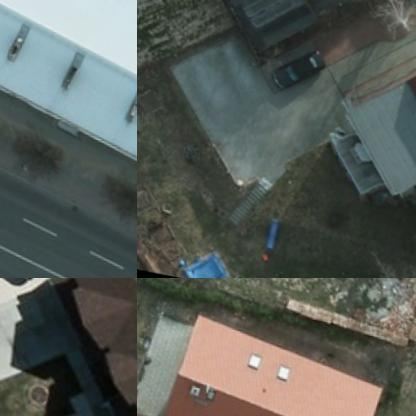car: (263, 35, 327, 91)
